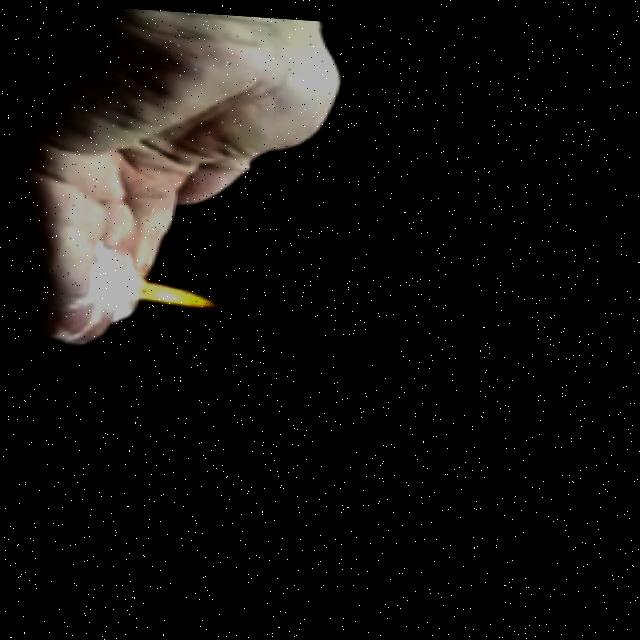Fire: (112, 271, 231, 316)
